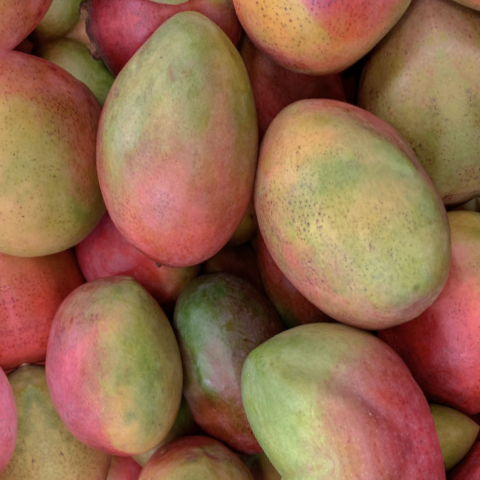mango: (27, 0, 330, 316), (224, 67, 480, 361), (208, 295, 436, 480), (26, 257, 206, 463)
